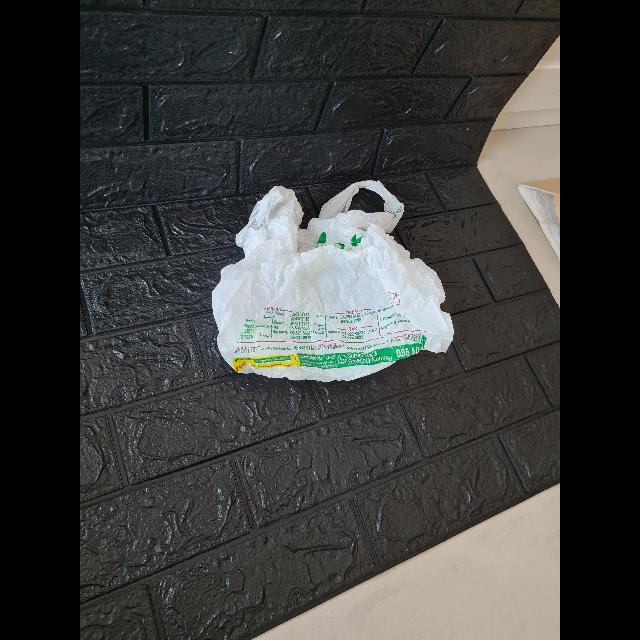plastic_bag: (190, 164, 468, 386)
